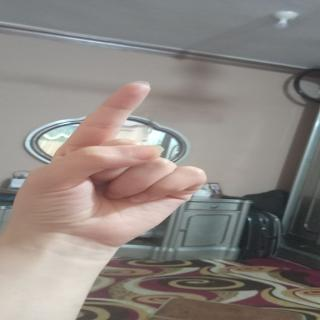BAA: (15, 78, 213, 256)
